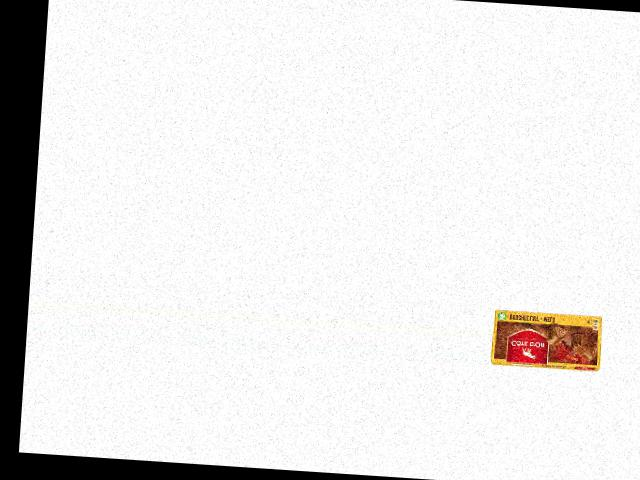chocolate: (490, 300, 605, 374)
